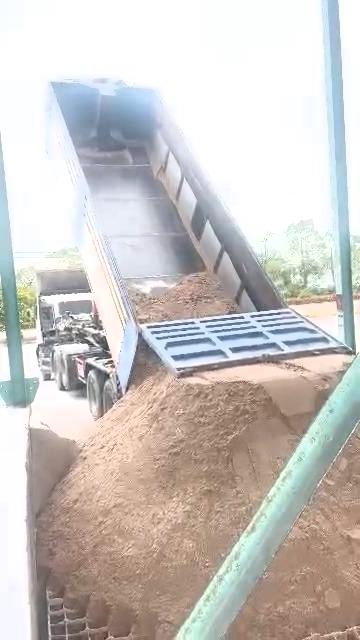sand: (39, 351, 350, 639), (237, 428, 359, 639), (130, 272, 237, 323), (28, 424, 78, 516), (306, 626, 360, 639)
